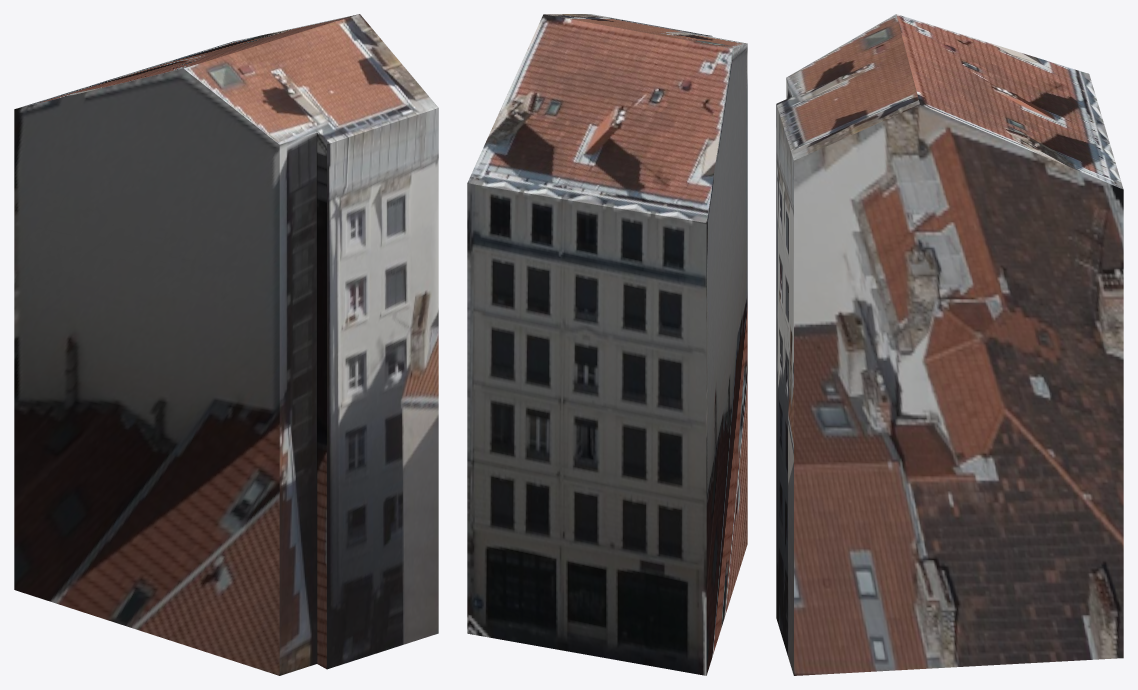
3 views of the same model, side by side, from view 1: azimuth 30°, elevation 25°; view 2: azimuth 150°, elevation 25°; view 3: azimuth 270°, elevation 25° (orthographic). The views are drawn at different scales.
Visible parts, largest first — view 1: Z_UP; view 2: Z_UP; view 3: Z_UP.
Part boxes in pixels (<box>): Z_UP: <box>14,14,438,675</box>; Z_UP: <box>467,14,747,675</box>; Z_UP: <box>776,14,1123,675</box>.
Size of the model in its own units: 13.75 by 27.66 by 15.41.
2 materials, 1 textured.
